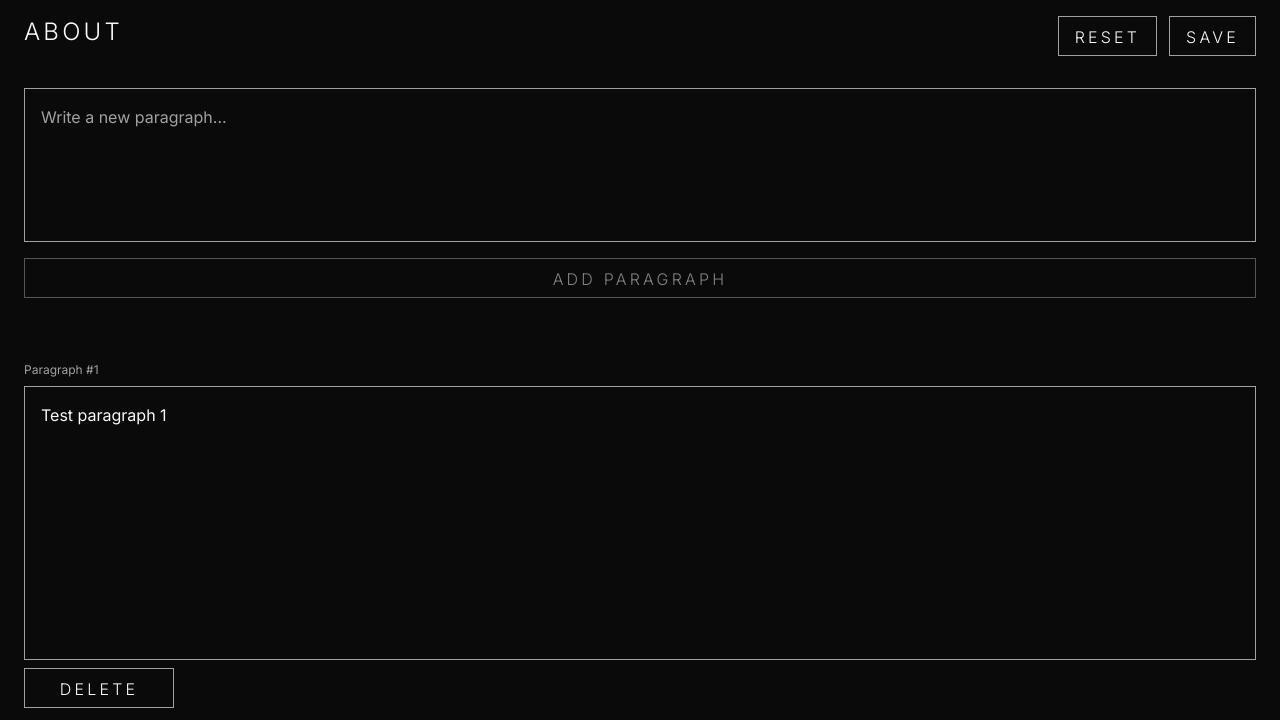
Test case: AboutAdmin Integration › should delete a paragraph
Check: the text "Paragraph #1" is shown, box x1=24 y1=362 x2=99 y2=377
Click the button "Delete" at point(99, 688), box x1=24 y1=668 x2=174 y2=708
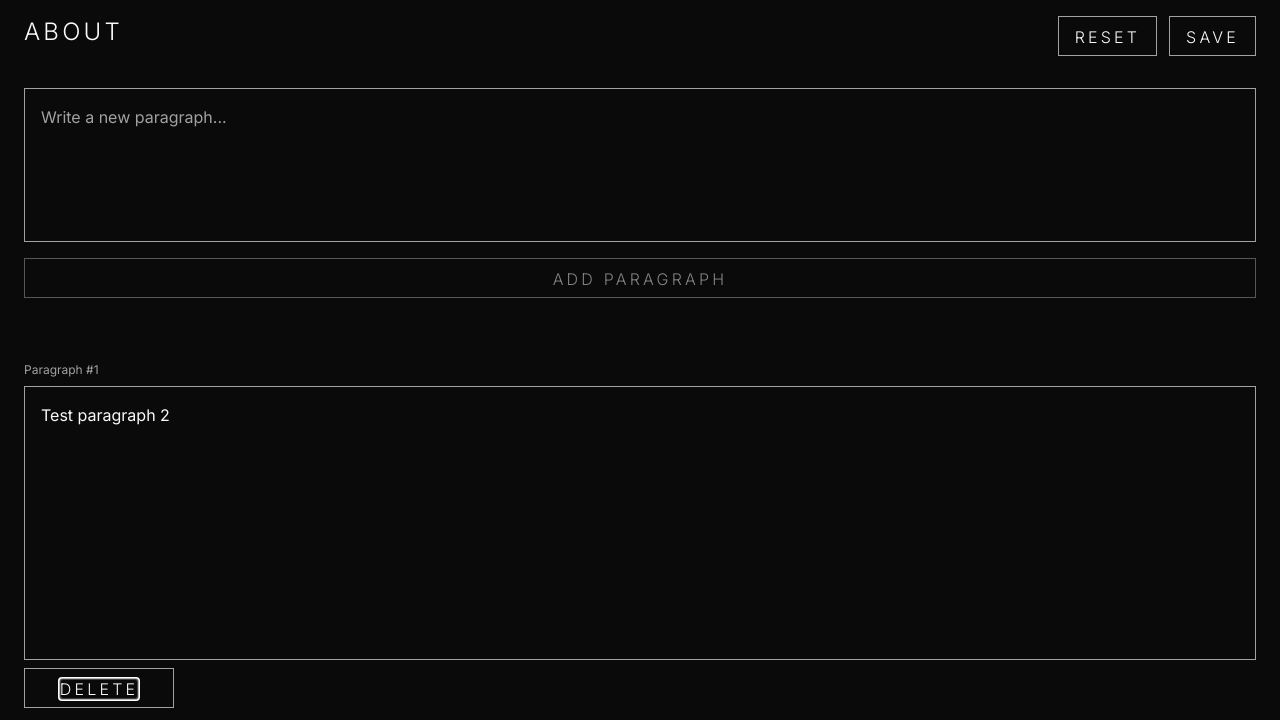
Check: the number of text boxes with placeholder "Write a paragraph..." is 1, box x1=24 y1=386 x2=1256 y2=660
Check: the text box with placeholder "Write a paragraph..." holds "Test paragraph 2", box x1=24 y1=386 x2=1256 y2=660
